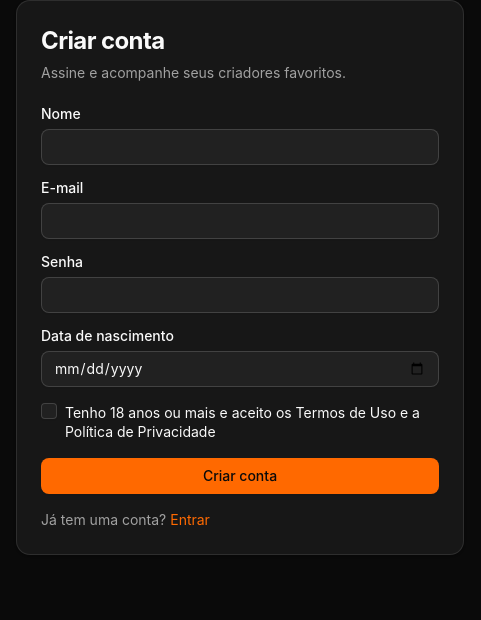
Scenario: SignupPage › blocks submission when the terms are not accepted
Type "Ana Souza" into the field labelled "Nome" at (240, 147), box [41, 129, 439, 165]
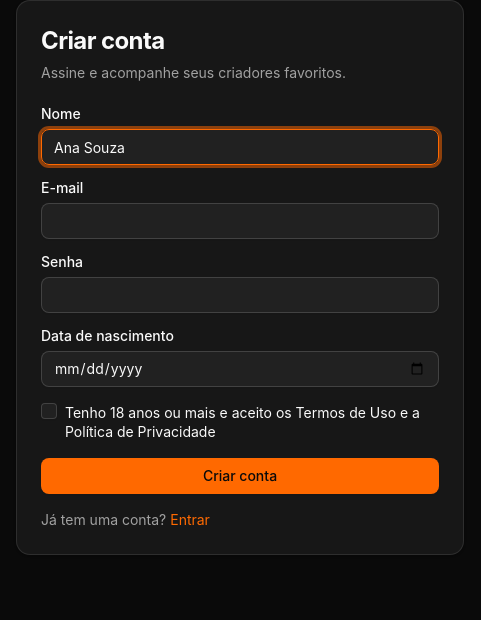
Type "ana@example.com" into the field labelled "E-mail" at (240, 221), box [41, 203, 439, 239]
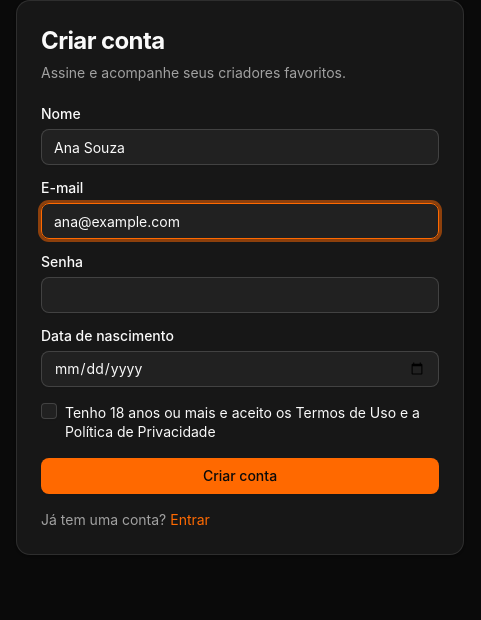
Type "senhaforte123" into the password field labelled "Senha" at (240, 295), box [41, 277, 439, 313]
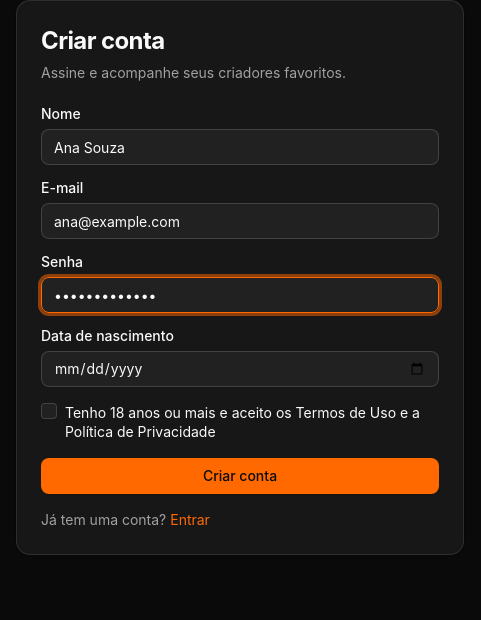
Type "1990-05-20" into the date field labelled "Data de nascimento" at (240, 369), box [41, 351, 439, 387]
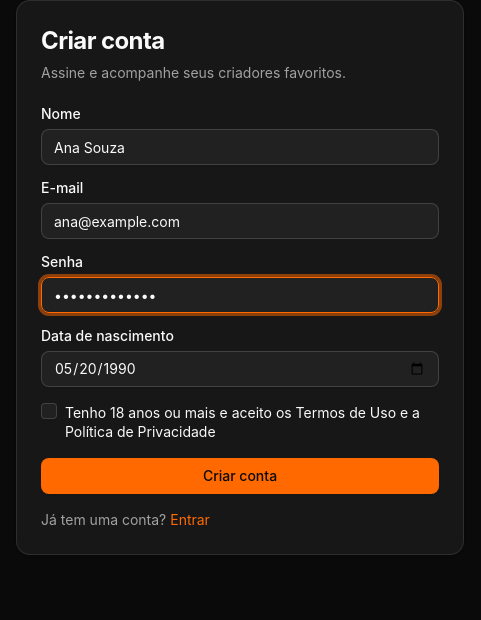
Click the button "Criar conta" at (240, 476), box [41, 458, 439, 494]
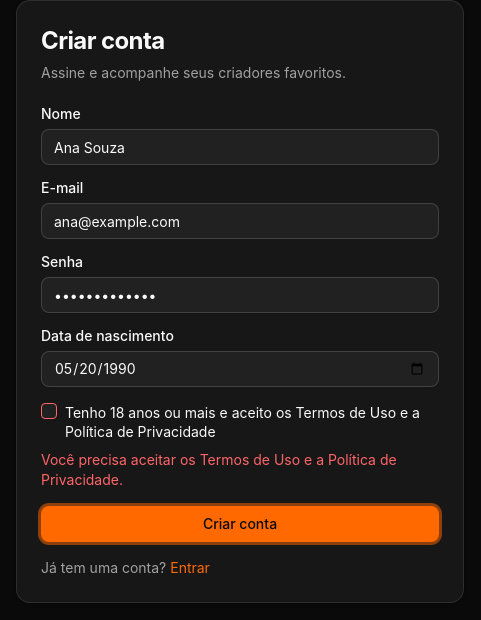
Expected: the text "Você precisa aceitar os Termos de Uso e a Política de Privacidade." is shown, [41, 450, 439, 490]
